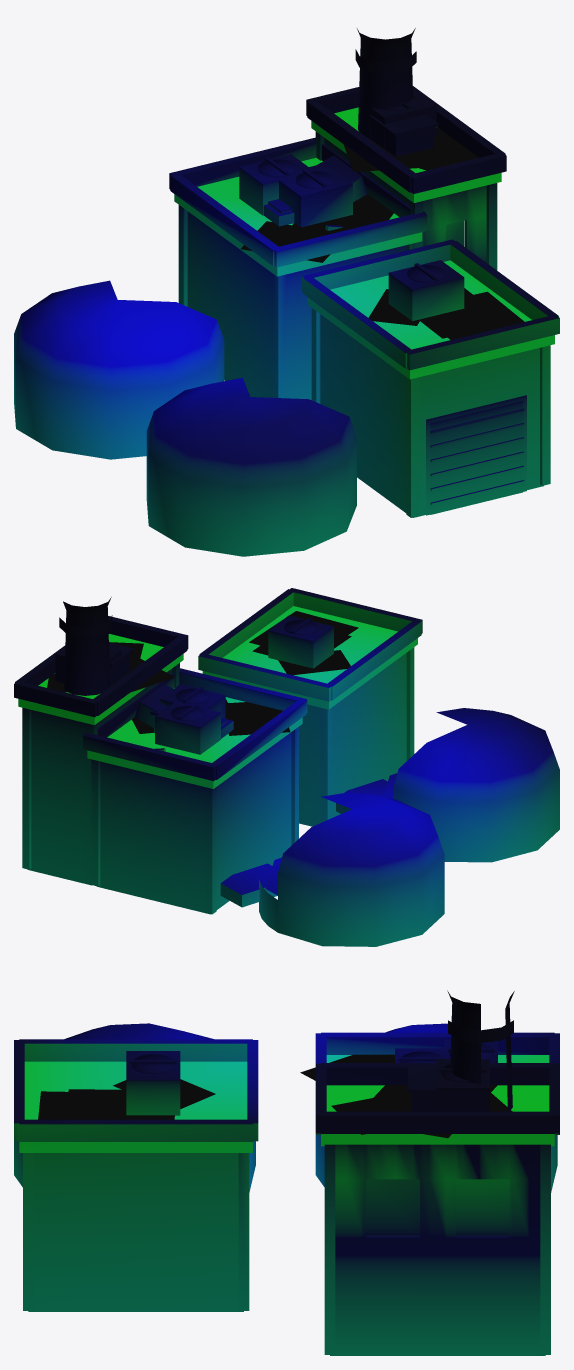
Rendered from purificationplant_damaged.glb.
The picture shows the model from 3 angles, top to bottom: view 1: azimuth 30°, elevation 25°; view 2: azimuth 150°, elevation 25°; view 3: azimuth 270°, elevation 25°; orthographic projection. The views are drawn at different scales.
Parts seen in each view (by area): view 1: lod0; view 2: lod0; view 3: lod0.
Boxes of the visible parts, x1,y1,x2,y2 form: lod0: [14, 28, 559, 556]; lod0: [14, 588, 559, 946]; lod0: [14, 990, 559, 1355].
Size of what is drawn, in the model's own units: 15.93 by 10.6 by 15.2.
